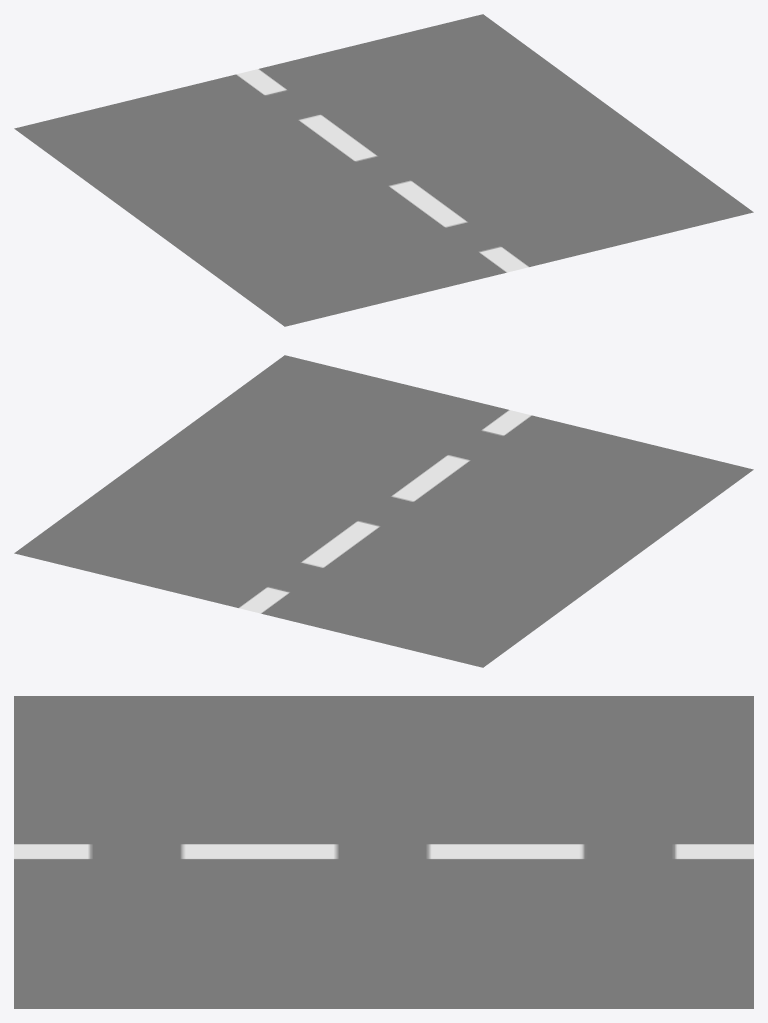
File: StreetLines.glb
The picture shows the model from 3 angles, top to bottom: view 1: azimuth 30°, elevation 25°; view 2: azimuth 150°, elevation 25°; view 3: azimuth 270°, elevation 25°; orthographic projection. The views are drawn at different scales.
Parts seen in each view (by area): view 1: StreetLines; view 2: StreetLines; view 3: StreetLines.
Part boxes in pixels (bbox=[...]): StreetLines: bbox=[14, 14, 753, 326]; StreetLines: bbox=[14, 355, 753, 667]; StreetLines: bbox=[14, 696, 753, 1008].
Bounding box in the file's own units: 2 × 0 × 2.
Materials: 1 (1 with a texture image).
